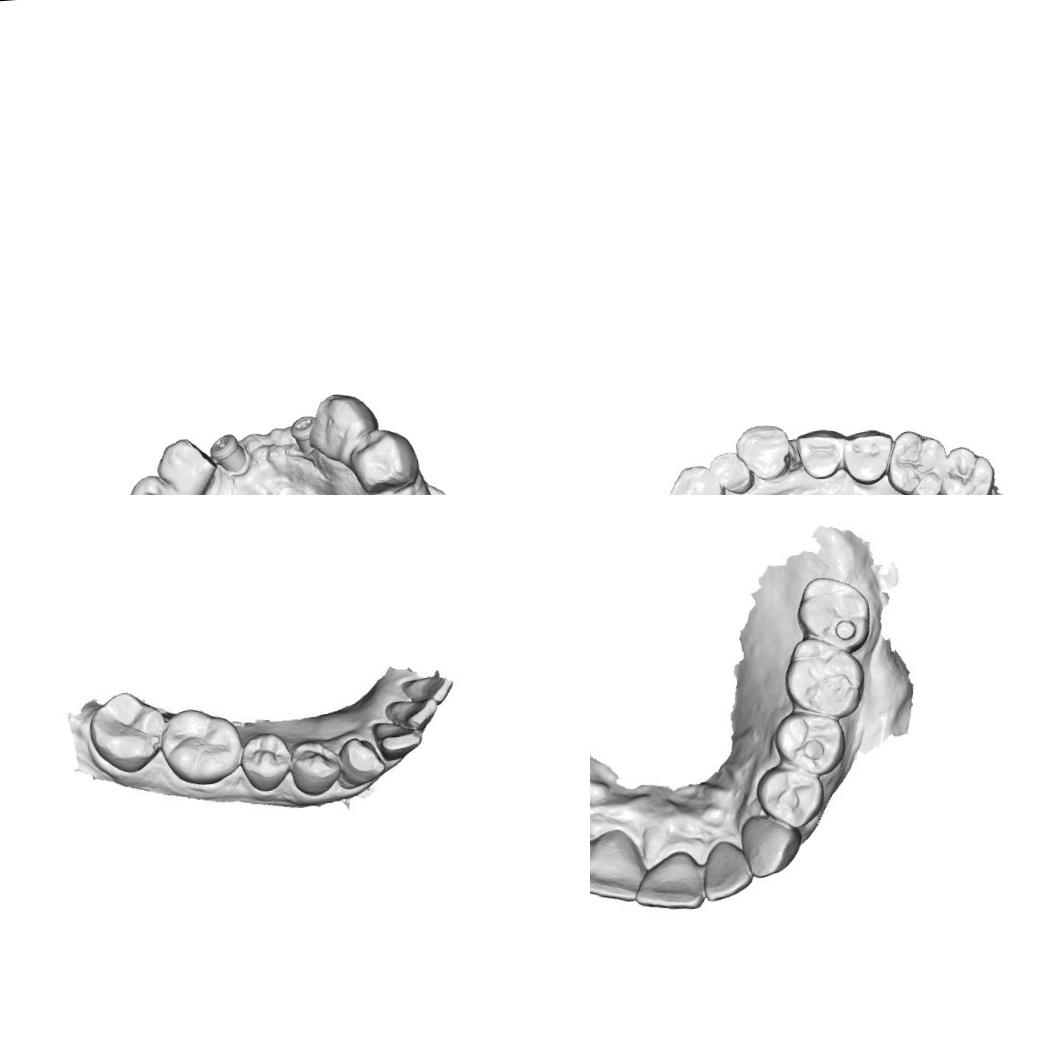canine: (732, 421, 794, 484), (740, 812, 798, 878), (334, 734, 387, 790)
implant: (210, 430, 250, 475)
implant_minus: (284, 414, 316, 443)
incisor: (635, 853, 702, 914), (700, 836, 753, 898), (590, 832, 639, 898), (370, 718, 424, 762), (707, 448, 755, 495), (382, 696, 440, 733), (665, 462, 727, 495), (398, 672, 454, 708)
molar: (157, 704, 245, 788), (86, 687, 168, 776), (782, 630, 863, 718), (796, 573, 870, 648), (882, 426, 949, 495), (936, 443, 997, 495)
premolar: (308, 389, 382, 462), (346, 424, 421, 495), (756, 761, 823, 828), (778, 708, 844, 774), (152, 434, 216, 495), (235, 730, 293, 793), (287, 737, 343, 798), (842, 426, 896, 486), (793, 426, 846, 482), (126, 471, 189, 495)
